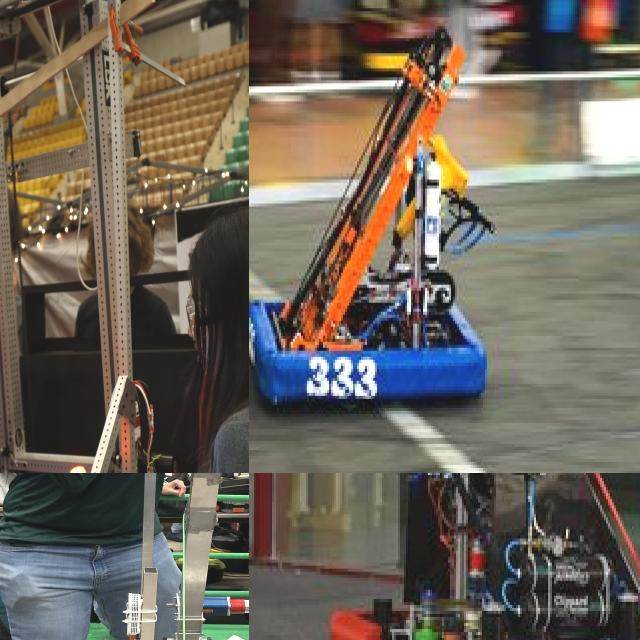FRC-Robots: (249, 0, 573, 437), (0, 0, 249, 473), (270, 473, 640, 640), (0, 473, 249, 640)
